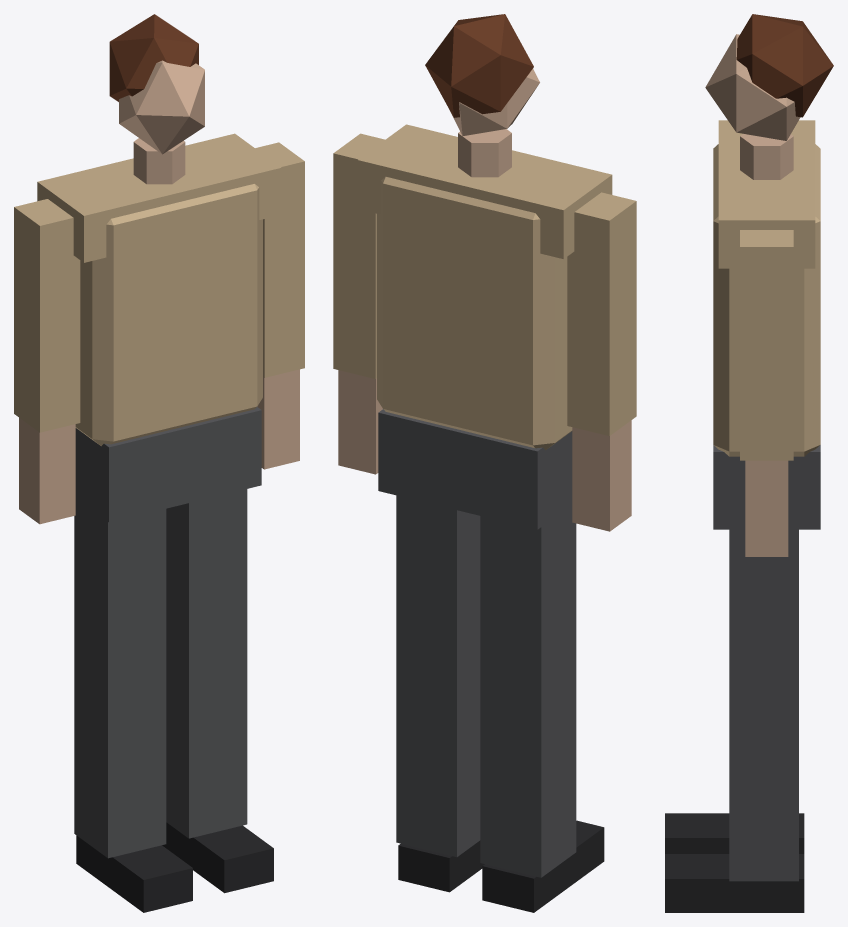
The model's file is person_standing_b.glb.
The picture shows the model from 3 angles, left to right: view 1: azimuth 30°, elevation 25°; view 2: azimuth 150°, elevation 25°; view 3: azimuth 270°, elevation 25°; orthographic projection. The views are drawn at different scales.
Parts seen in each view (by area): view 1: Body_LOD0; view 2: Body_LOD0; view 3: Body_LOD0.
Part boxes in pixels (bbox=[...]): Body_LOD0: bbox=[14, 14, 304, 912]; Body_LOD0: bbox=[333, 14, 636, 912]; Body_LOD0: bbox=[665, 14, 833, 912].
Size of the model in its own units: 0.59 by 1.77 by 0.315.
